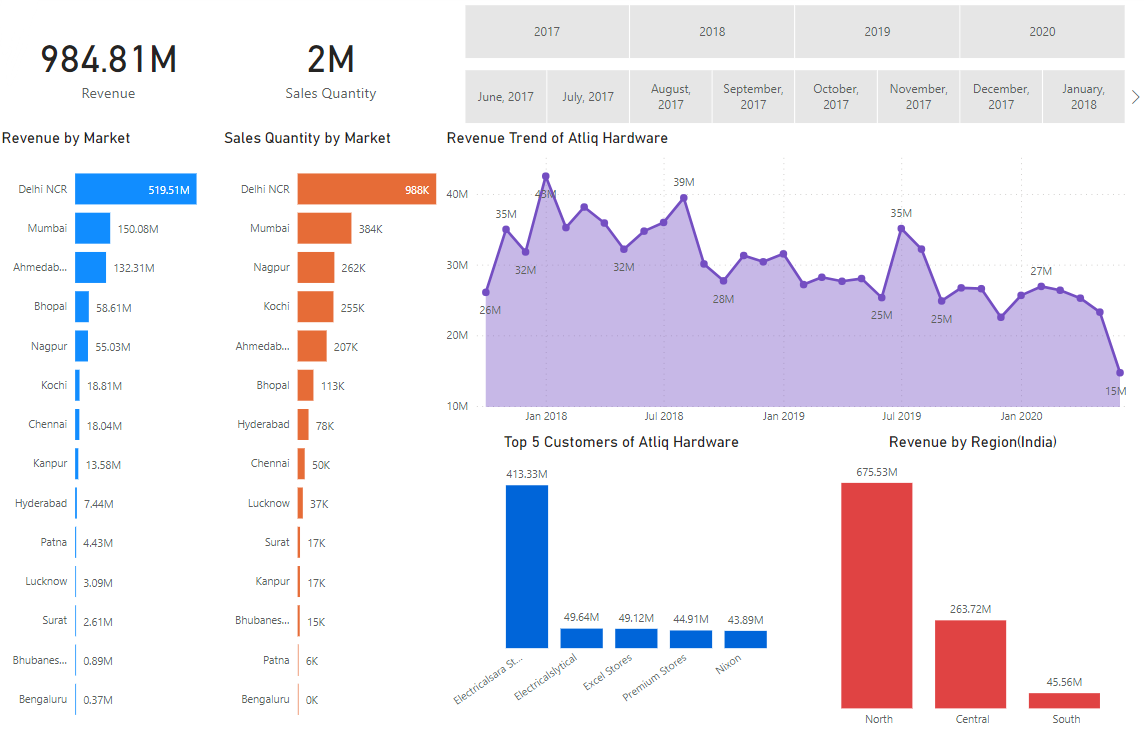

The dashboard page shown, as its layout file describes it:
{"tool":"powerbi","page":{"name":"Page 1","canvas":[1280,820],"ordinal":0},"visuals":[{"type":"card","fields":{"Values":["BaseMeasures.Revenue"]},"box":[0,0,247.8,144.8],"z":0},{"type":"barChart","title":"Revenue by Market","fields":{"Y":["BaseMeasures.Revenue"],"Category":["sales markets.markets_name"]},"box":[0,144.8,247.8,675.2],"z":1000},{"type":"card","fields":{"Values":["BaseMeasures.Sales Quatity"]},"box":[247.8,0,247.8,144.8],"z":2000},{"type":"barChart","title":"Sales Quantity by Market","fields":{"Y":["BaseMeasures.Sales Quatity"],"Category":["sales markets.markets_name"]},"box":[247.8,144.8,247.8,675.2],"z":3000},{"type":"slicer","fields":{"Values":["sales date.year"]},"box":[495.6,0,783.8,72.4],"z":4000},{"type":"slicer","fields":{"Values":["sales date.cy_date"]},"box":[495.6,72.4,783.8,72.4],"z":5000},{"type":"clusteredColumnChart","title":"Top 5 Customers of Atliq Hardware","fields":{"Category":["sales customers.custmer_name"],"Y":["BaseMeasures.Revenue"]},"box":[502.6,483.1,385.6,336.9],"z":6000},{"type":"clusteredColumnChart","title":"Revenue by Region(India)","fields":{"Y":["BaseMeasures.Revenue"],"Category":["sales markets.zone"]},"box":[893.8,483.1,385.6,336.9],"z":7000},{"type":"areaChart","title":"Revenue Trend of Atliq Hardware","fields":{"Y":["BaseMeasures.Revenue"],"Category":["sales date.cy_date"]},"box":[495.6,144.8,783.8,338.3],"z":7001},{"type":"actionButton","box":[0,0,100,40],"z":7002}]}

Visuals, with their boxes in screenshot pixels (x1, y1, x2, y2), scaled from the page's 1280x820 canvas onto the 1144x732 screenshot:
card - BaseMeasures.Revenue: (left=0, top=0, right=221, bottom=129)
"Revenue by Market" barChart: (left=0, top=129, right=221, bottom=731)
card - BaseMeasures.Sales Quatity: (left=221, top=0, right=443, bottom=129)
"Sales Quantity by Market" barChart: (left=221, top=129, right=443, bottom=731)
slicer - sales date.year: (left=443, top=0, right=1143, bottom=65)
slicer - sales date.cy_date: (left=443, top=65, right=1143, bottom=129)
"Top 5 Customers of Atliq Hardware" clusteredColumnChart: (left=449, top=431, right=794, bottom=731)
"Revenue by Region(India)" clusteredColumnChart: (left=799, top=431, right=1143, bottom=731)
"Revenue Trend of Atliq Hardware" areaChart: (left=443, top=129, right=1143, bottom=431)
actionButton: (left=0, top=0, right=89, bottom=36)
